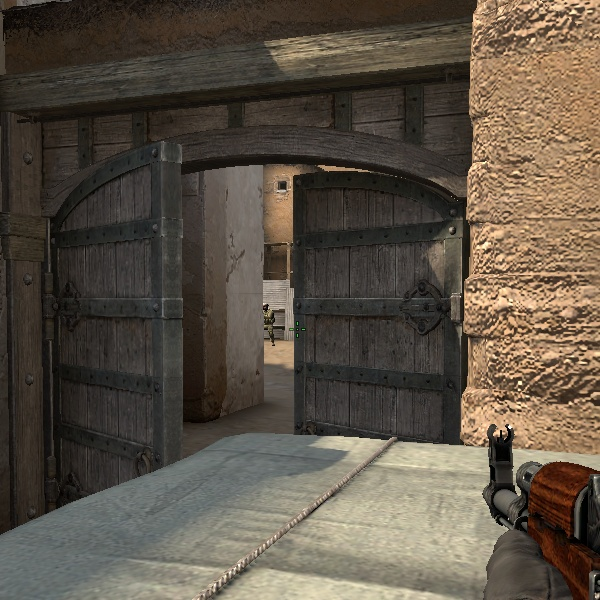ct_body: (262, 302, 277, 346)
ct_head: (262, 303, 269, 313)
